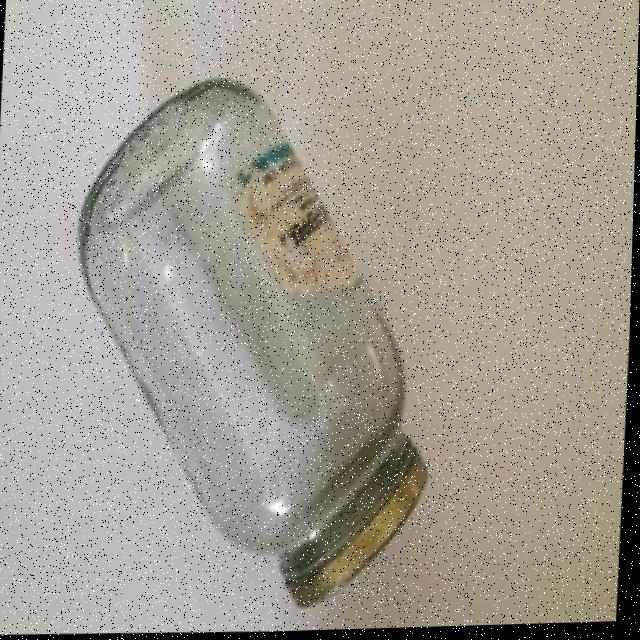glass: (55, 62, 448, 627)
